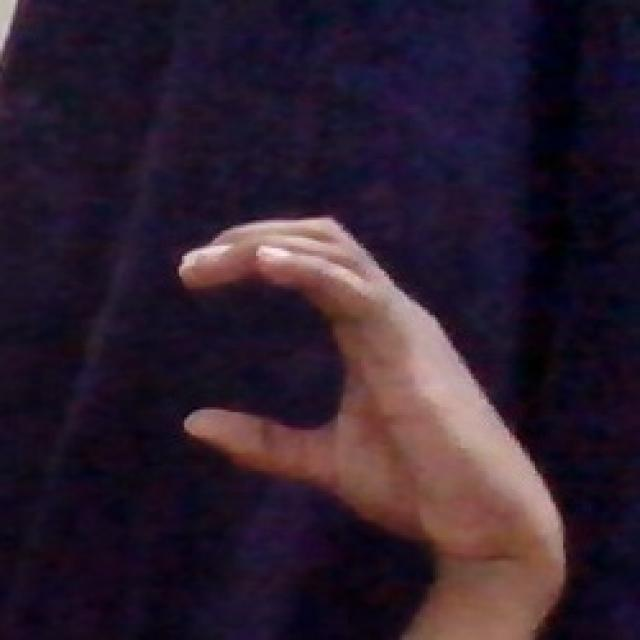Alphabet-C: (153, 208, 567, 562)
